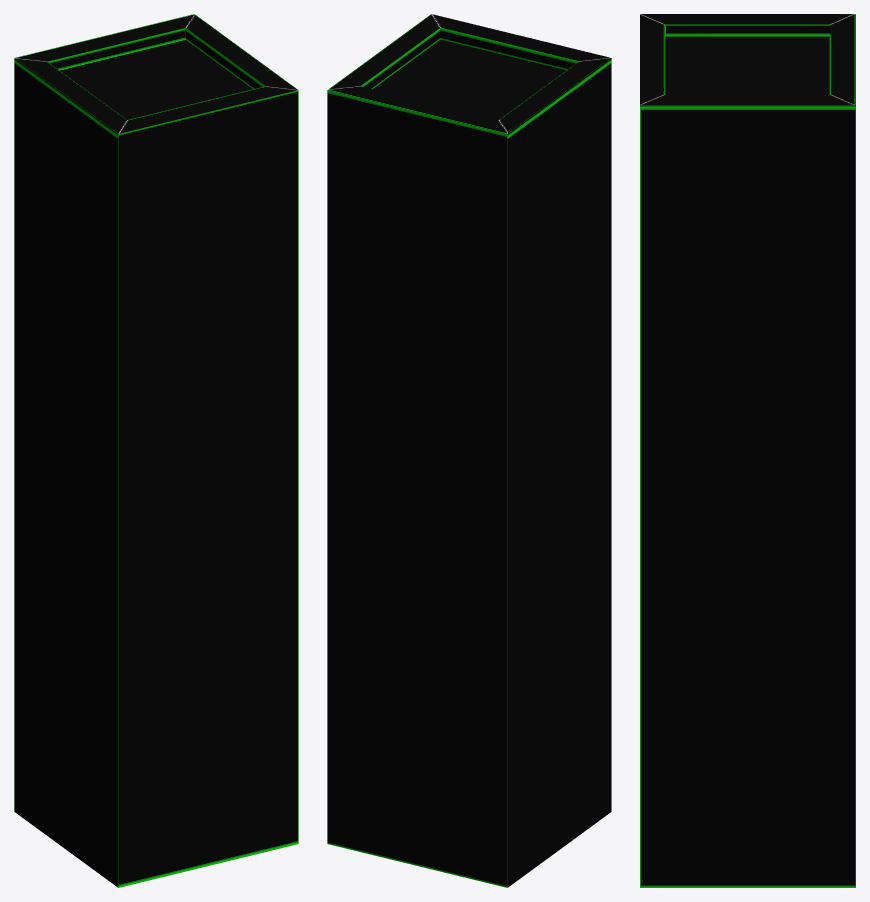
Rendered from Building.FBX.
The picture shows the model from 3 angles, left to right: view 1: azimuth 30°, elevation 25°; view 2: azimuth 150°, elevation 25°; view 3: azimuth 270°, elevation 25°; orthographic projection. The views are drawn at different scales.
Visible parts, largest first — view 1: Building; view 2: Building; view 3: Building.
Boxes of the visible parts, x1,y1,x2,y2 form: Building: (14, 14, 298, 887); Building: (327, 14, 611, 887); Building: (640, 14, 855, 887).
Size of what is drawn, in the model's own units: 0.3937 by 1.57 by 0.3937.
1 material, 1 textured.
